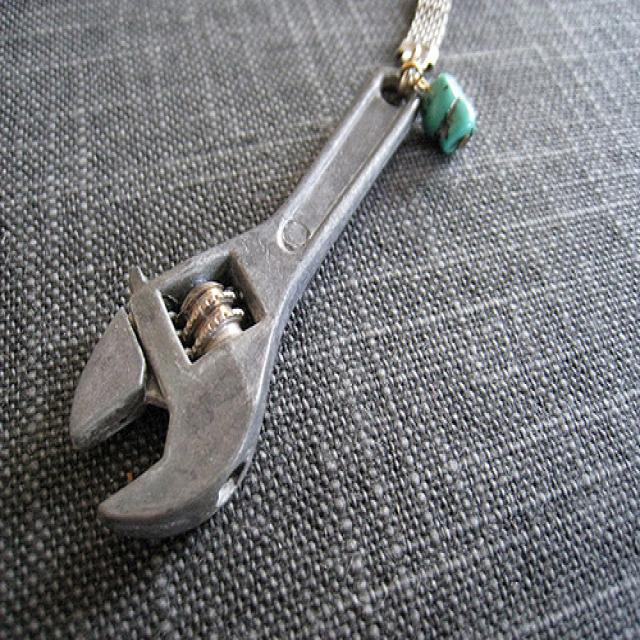wrench: (53, 30, 433, 574)
